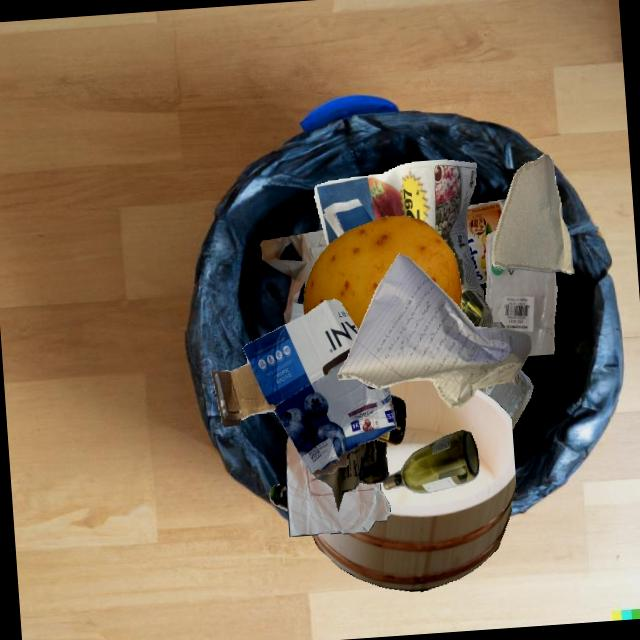biowaste: (303, 215, 462, 330)
cardboard: (211, 299, 397, 475), (491, 154, 573, 274), (488, 307, 492, 317)
combustible waste: (312, 379, 516, 591)
glass: (383, 429, 479, 493), (466, 199, 506, 283), (375, 394, 405, 445), (270, 484, 288, 511)
paper: (337, 253, 530, 407), (314, 159, 476, 288), (286, 435, 390, 536), (260, 229, 327, 324), (428, 288, 483, 392), (313, 439, 388, 511), (508, 372, 518, 385), (492, 321, 506, 328)
plastic: (485, 231, 557, 355), (485, 369, 533, 429)
